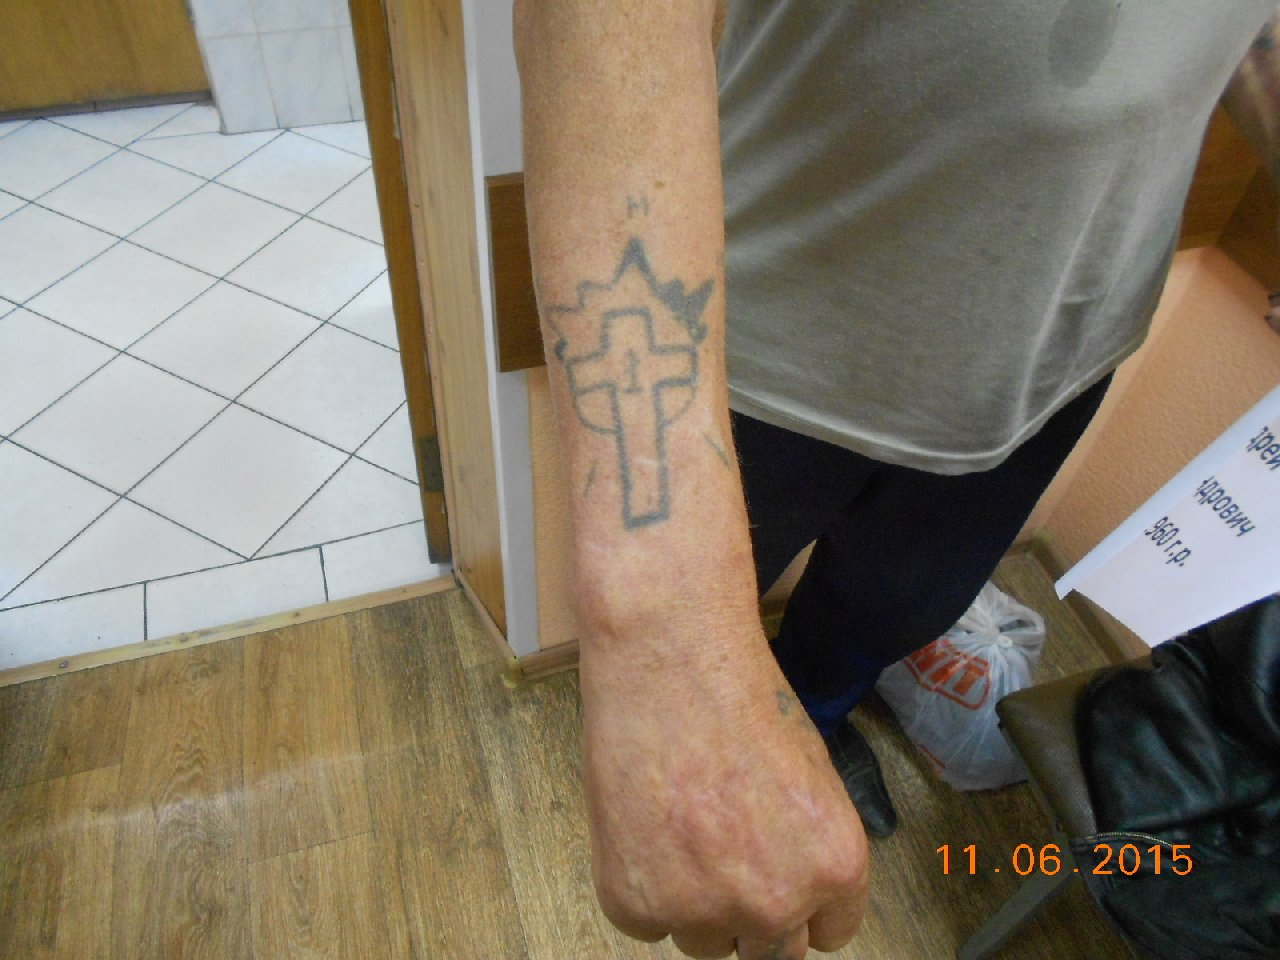tatu9_krest: (533, 304, 749, 542)
